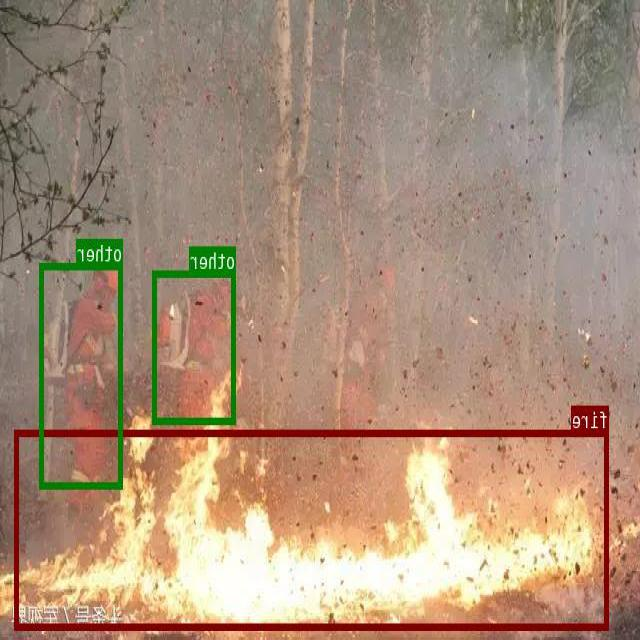fire: (15, 429, 609, 628)
other: (40, 262, 124, 487), (154, 269, 236, 423)
